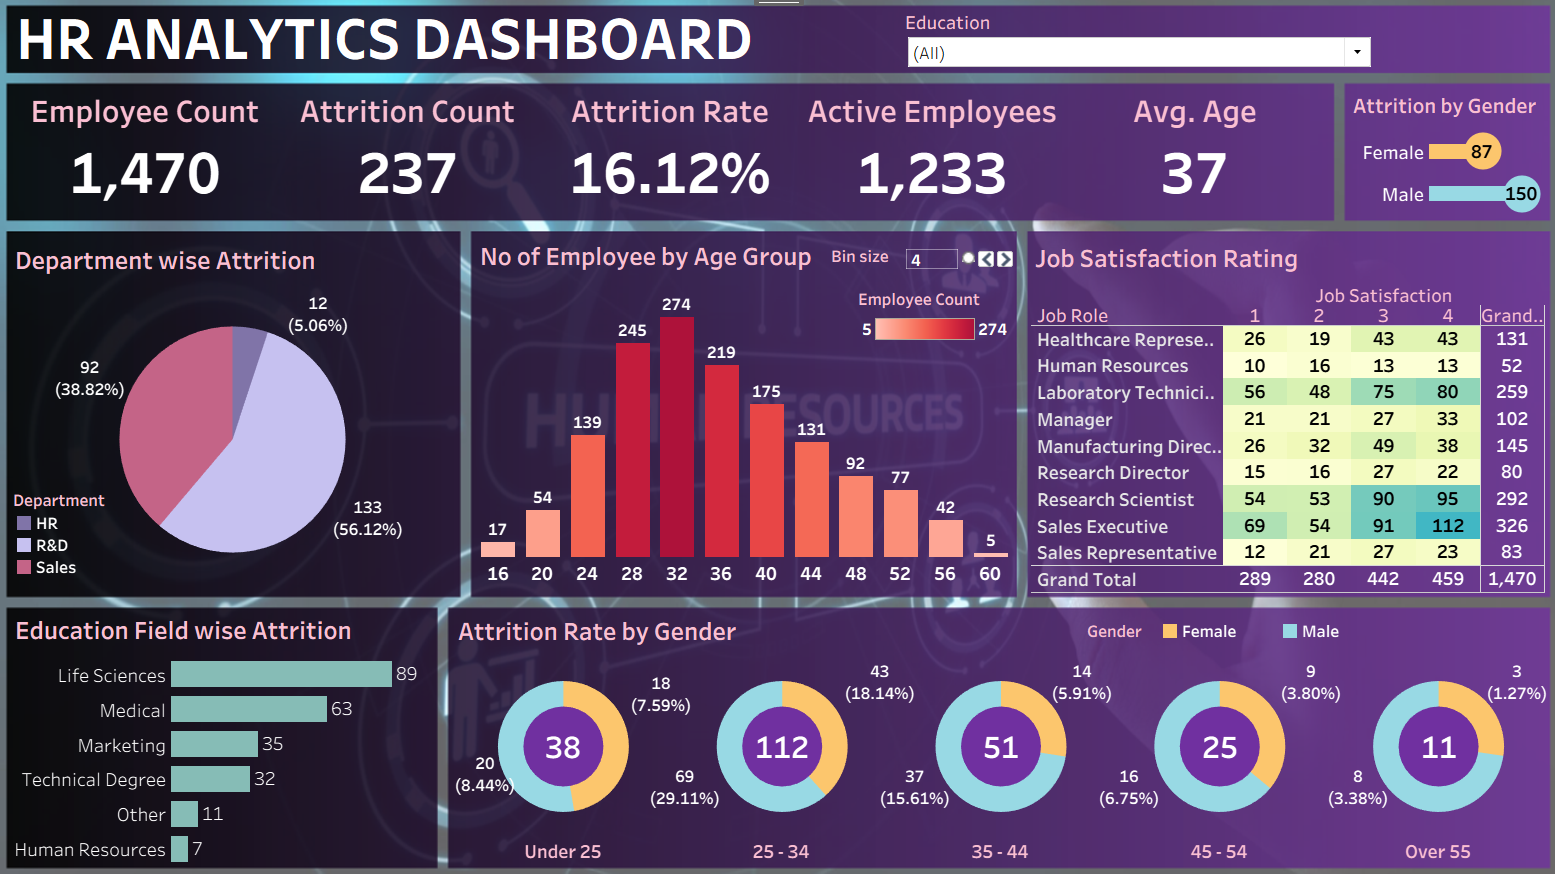

The dashboard page shown, as its layout file describes it:
{"tool":"tableau","page":{"name":"HR ANALYTICS DASHBOARD","canvas":[1000,1000],"units":"permille","ordinal":0},"visuals":[{"type":"image","param":"Image/HR background.pptx.png","box":[5,8.9,989.9,982.2]},{"type":"text","box":[17.6,22.2,601.3,64.4]},{"type":"filter","title":"Department wise Attrition","param":"[federated.0uu02un157ylzm138mxdr1n6xe3c].[none:Education:nk]","box":[579.2,24.4,295,66.7]},{"type":"worksheet","title":"Attrition by Gender","mark":"Automatic","rows":["Gender"],"cols":["Calculation_2260347681476608","Calculation_2260347681476608"],"box":[858.5,111.1,123.9,142.2]},{"type":"worksheet","title":"KPI","mark":"Automatic","box":[18.9,114.4,825.2,135.6]},{"type":"worksheet","title":"No of Employee by Age Group","mark":"Automatic","rows":["Employee Count"],"cols":["Age (bin)"],"box":[309.4,275.6,337.7,390]},{"type":"worksheet","title":"Job Satisfaction Rating","mark":"Square","rows":["Job Role"],"cols":["Job Satisfaction"],"box":[658.5,277.8,323.3,395.6]},{"type":"worksheet","title":"Department wise Attrition","mark":"Pie","box":[17,280,278.6,392.2]},{"type":"parameter","param":"[Parameters].[Parameter 2260348063477764]","box":[532.7,287.8,116.4,52.2]},{"type":"legend","title":"No of Employee by Age Group","param":"[federated.0uu02un157ylzm138mxdr1n6xe3c].[sum:Employee Count:qk]","box":[549.7,334.4,96.9,77.8]},{"type":"legend","title":"Department wise Attrition","param":"[federated.0uu02un157ylzm138mxdr1n6xe3c].[none:Department:nk]","box":[18.2,557.8,88,112.2]},{"type":"worksheet","title":"Education Field wise Attrition","mark":"Automatic","rows":["Education Field"],"cols":["Calculation_2260347681476608"],"box":[17,691.1,266,285.6]},{"type":"worksheet","title":"Attrition Rate by Gender","mark":"Pie","rows":["Calculation_2260348138524679","Calculation_2260348138524679"],"cols":["CF_age band"],"box":[295.6,692.2,688.1,282.2]},{"type":"legend","title":"Attrition Rate by Gender","param":"[federated.0uu02un157ylzm138mxdr1n6xe3c].[none:Gender:nk]","box":[693.7,703.3,219.5,33.3]}]}

Visuals, with their boxes on the dashboard's canvas, which has no fixed pixel size, in thousandths of its width and height (x1, y1, x2, y2). These are canvas units, not pixel positions in the 1555x874 screenshot, which may show the page scaled, cropped or inside an application window:
image: <region>5, 9, 995, 991</region>
text: <region>18, 22, 619, 87</region>
"Department wise Attrition" filter: <region>579, 24, 874, 91</region>
"Attrition by Gender" worksheet: <region>858, 111, 982, 253</region>
"KPI" worksheet: <region>19, 114, 844, 250</region>
"No of Employee by Age Group" worksheet: <region>309, 276, 647, 666</region>
"Job Satisfaction Rating" worksheet (Square marks): <region>658, 278, 982, 673</region>
"Department wise Attrition" worksheet (Pie marks): <region>17, 280, 296, 672</region>
parameter: <region>533, 288, 649, 340</region>
"No of Employee by Age Group" legend: <region>550, 334, 647, 412</region>
"Department wise Attrition" legend: <region>18, 558, 106, 670</region>
"Education Field wise Attrition" worksheet: <region>17, 691, 283, 977</region>
"Attrition Rate by Gender" worksheet (Pie marks): <region>296, 692, 984, 974</region>
"Attrition Rate by Gender" legend: <region>694, 703, 913, 737</region>
